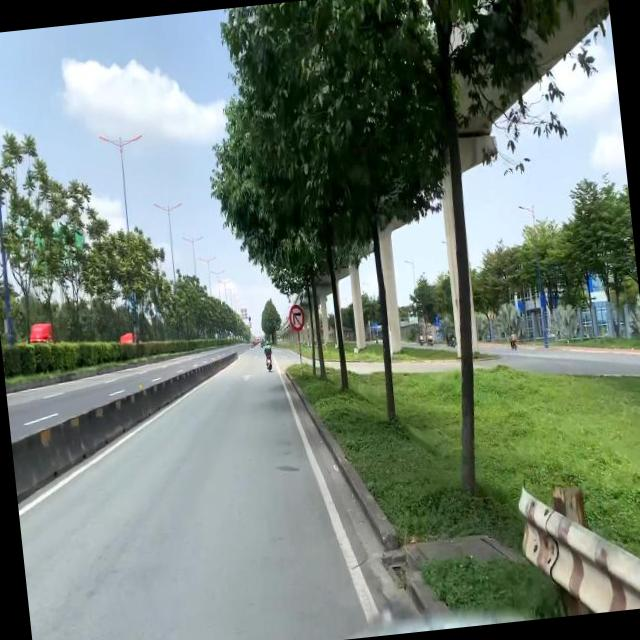P-123b: (288, 301, 302, 331)
